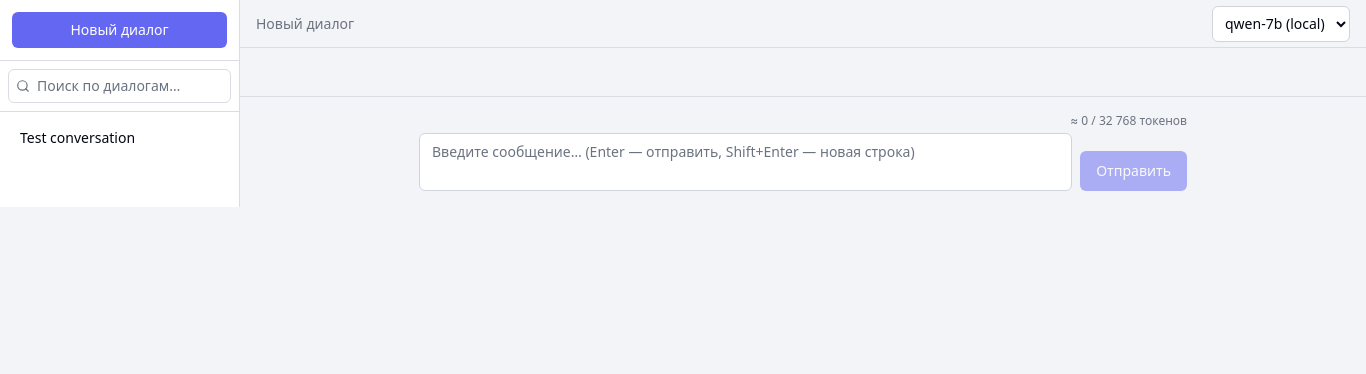
Test: ChatPage › shows conversation messages when clicking a conversation
Click the button "Test conversation" at (106, 138), box [8,120,205,156]
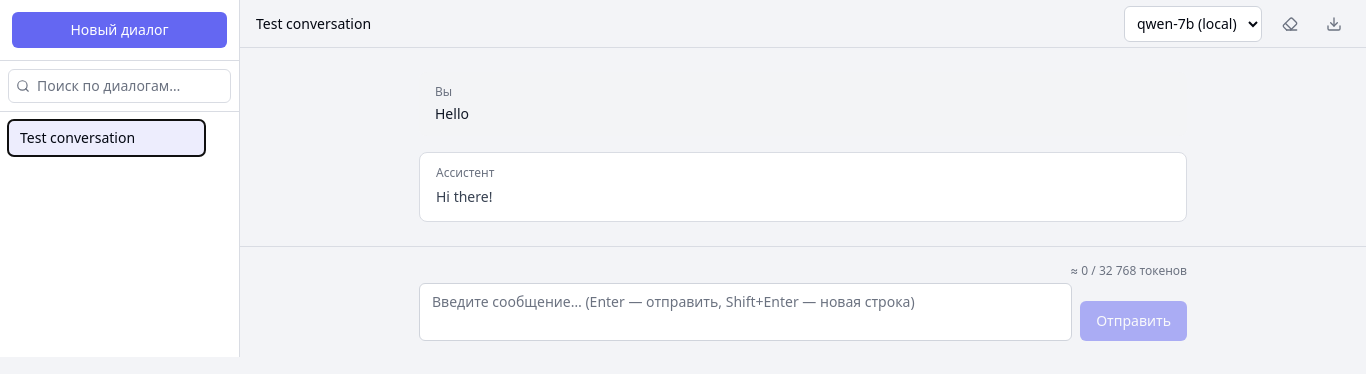
Expected: the text "Hello" is shown, [435,104,469,123]
Expected: the text "Hi there!" is shown, [436,187,492,206]
